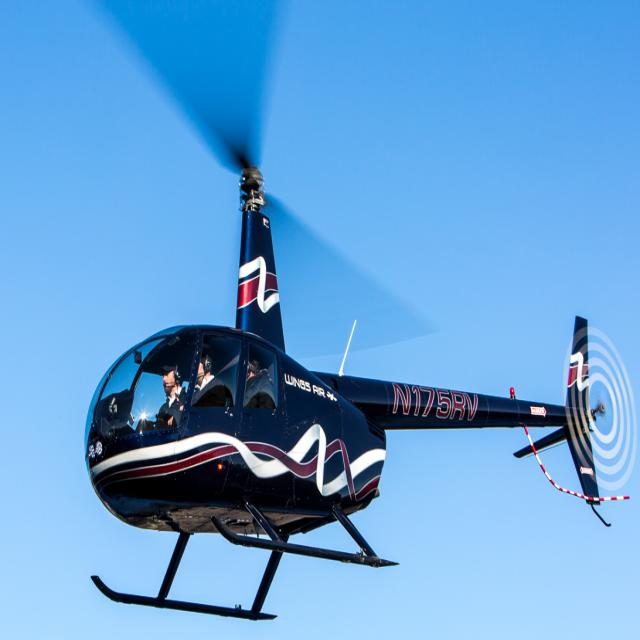helicopter: (87, 1, 640, 623)
